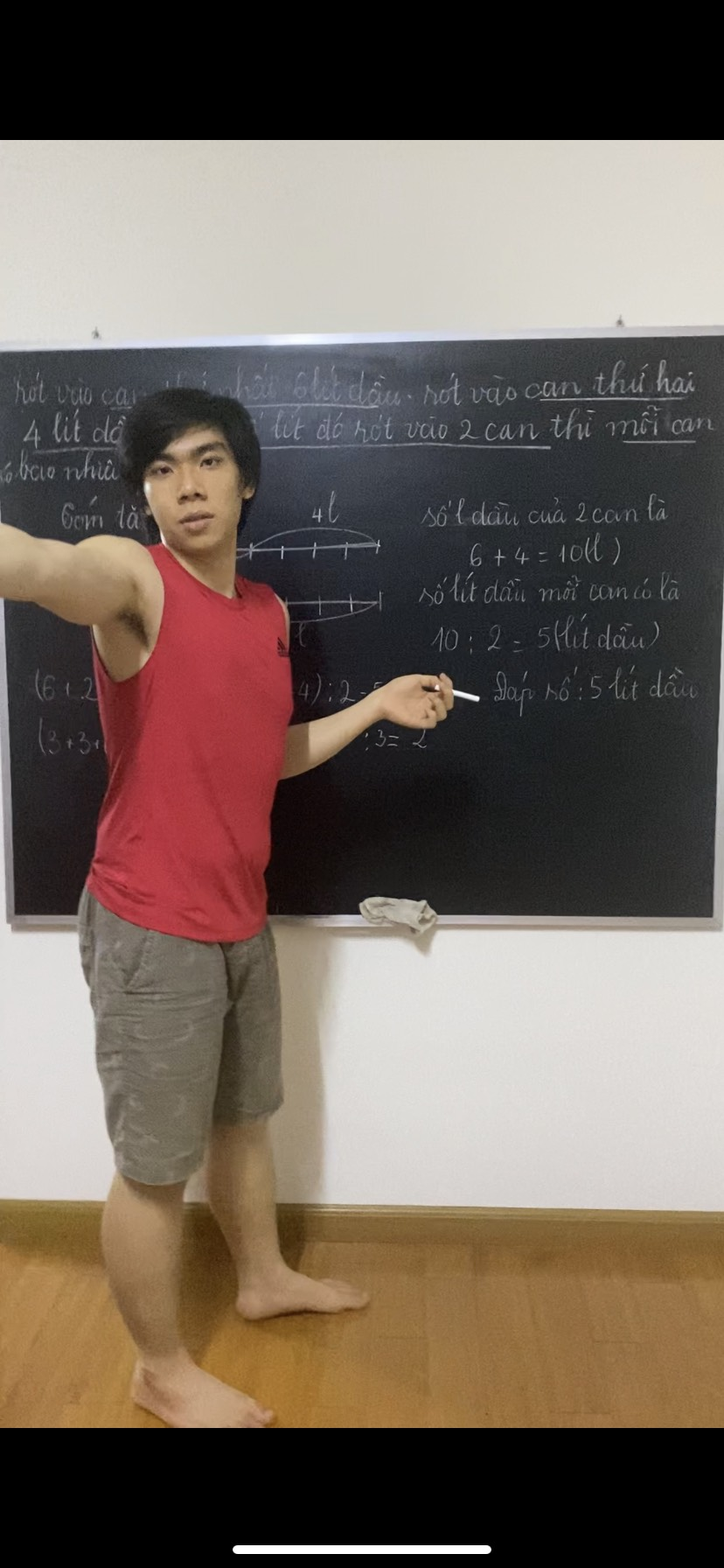cigarette: (452, 686, 484, 709)
person: (21, 357, 449, 1396)
